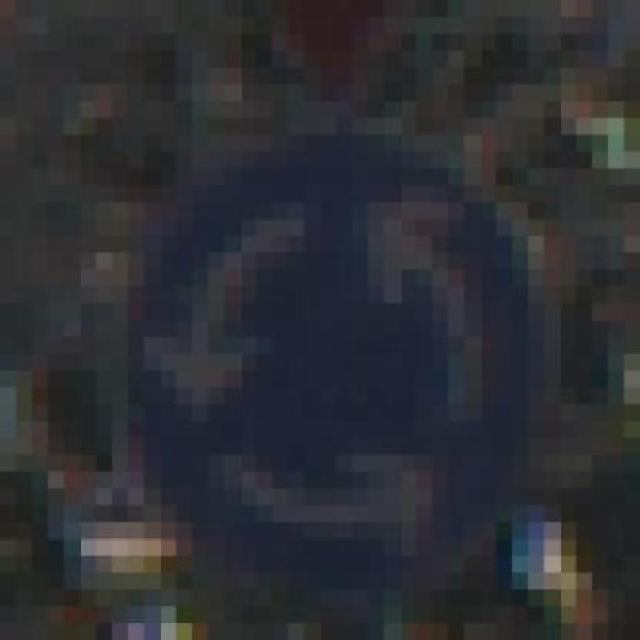Round-About: (48, 118, 608, 624)
